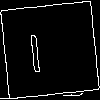I: (25, 25, 44, 73)
